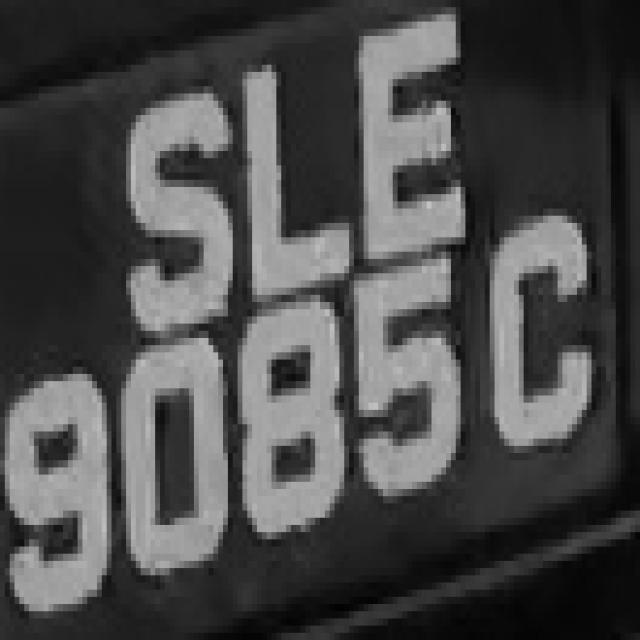0: (111, 345, 238, 604)
5: (349, 259, 466, 518)
8: (218, 295, 369, 546)
9: (0, 337, 116, 618)
C: (485, 194, 596, 460)
E: (349, 14, 475, 280)
L: (228, 36, 354, 302)
S: (107, 58, 247, 345)
